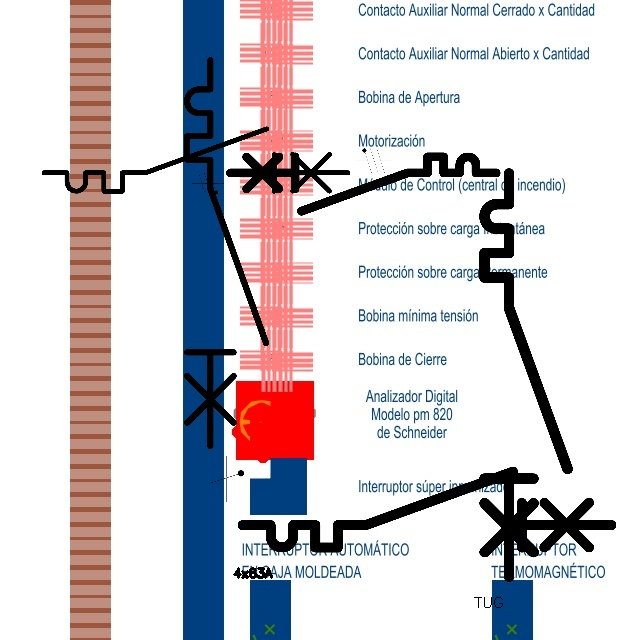interruptor_termomagnetico: (474, 163, 578, 587), (177, 50, 276, 456), (233, 462, 621, 557), (36, 121, 356, 199), (223, 150, 503, 218)
